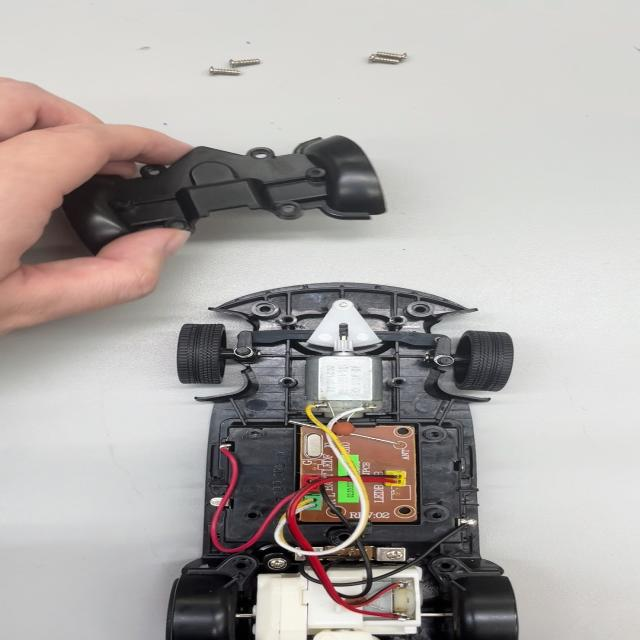Chassis: (199, 282, 502, 638)
motor: (320, 332, 381, 413)
motor_cover: (77, 128, 387, 242)
screw: (373, 44, 415, 64), (223, 51, 269, 68), (203, 63, 249, 80), (365, 52, 399, 70)
wheel: (162, 316, 233, 390), (448, 330, 530, 391)
